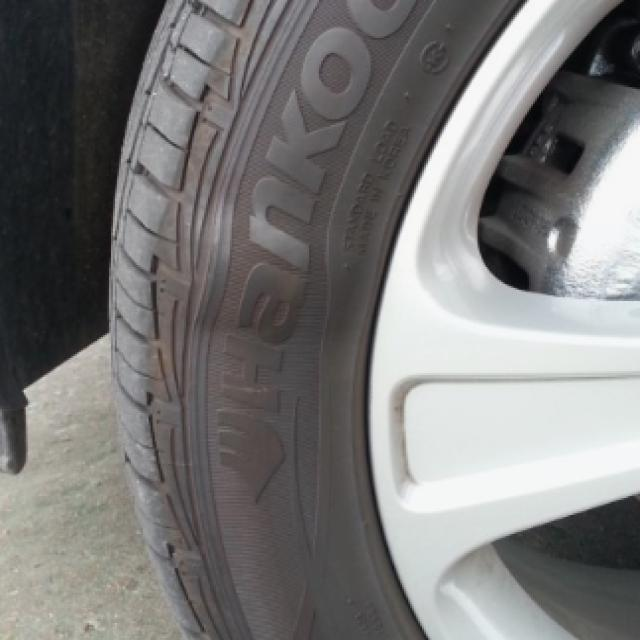Bulge: (147, 201, 375, 344)
